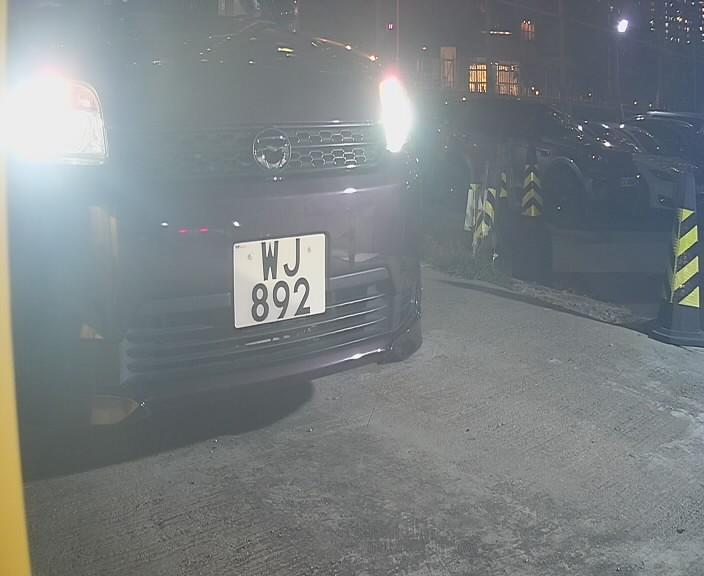License Plate: (217, 219, 334, 343)
